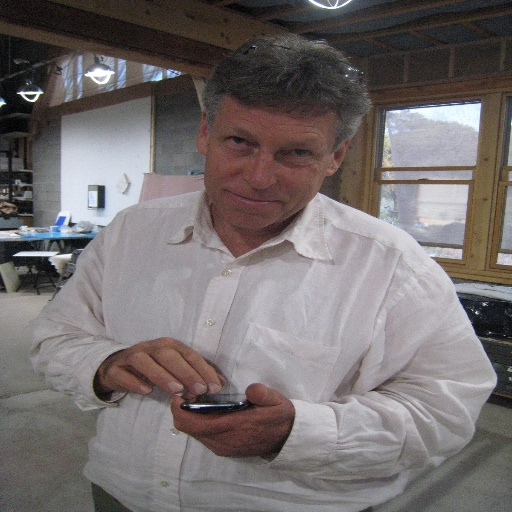hand: (87, 348, 235, 415), (167, 381, 293, 458)
